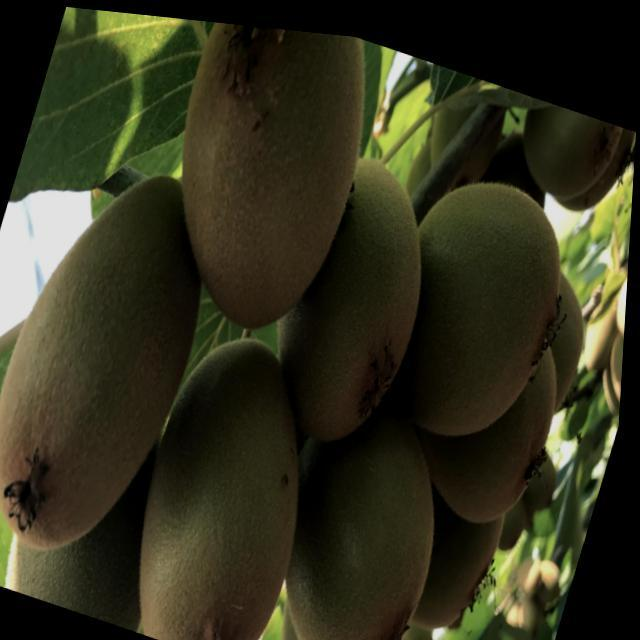kiwi: (1, 136, 240, 572), (134, 13, 395, 344), (113, 313, 351, 640), (373, 149, 593, 444), (277, 124, 463, 455), (254, 412, 471, 640)
